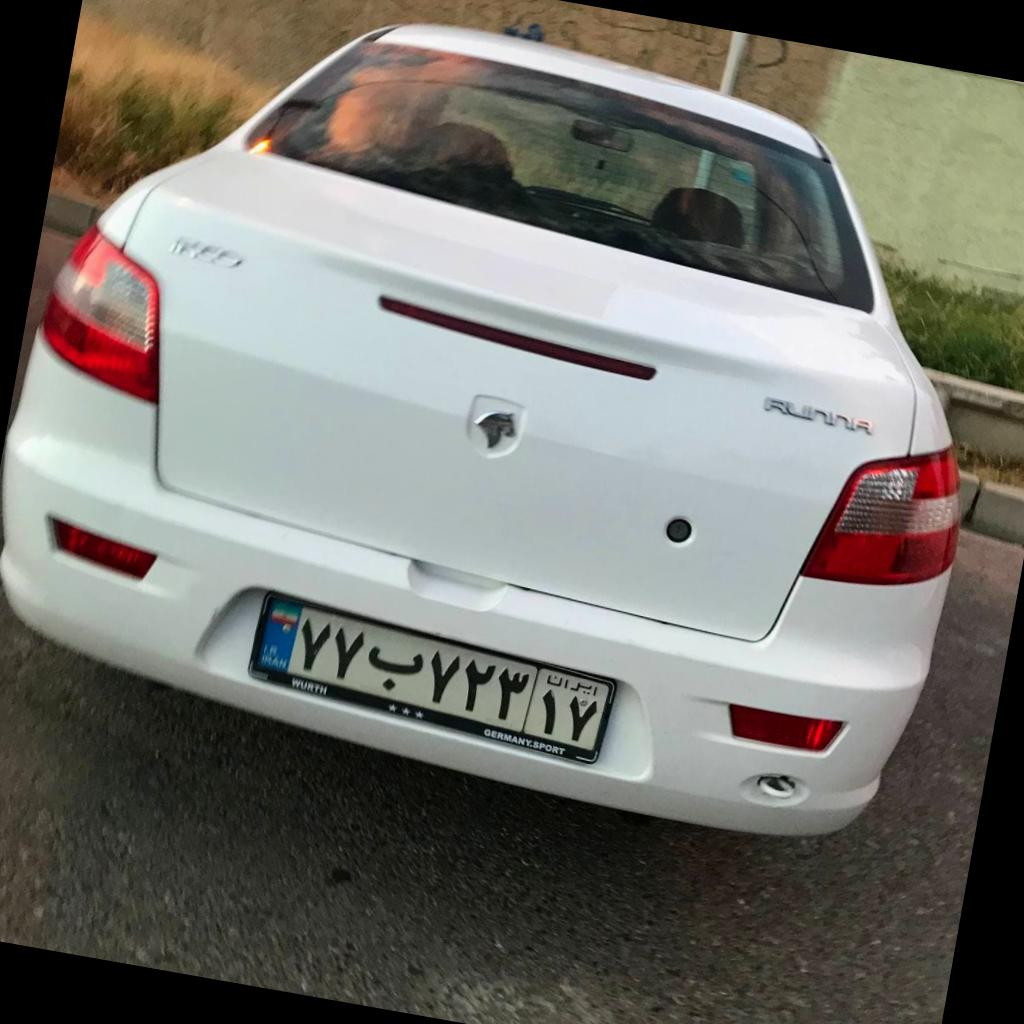Plates: (255, 599, 611, 750)
